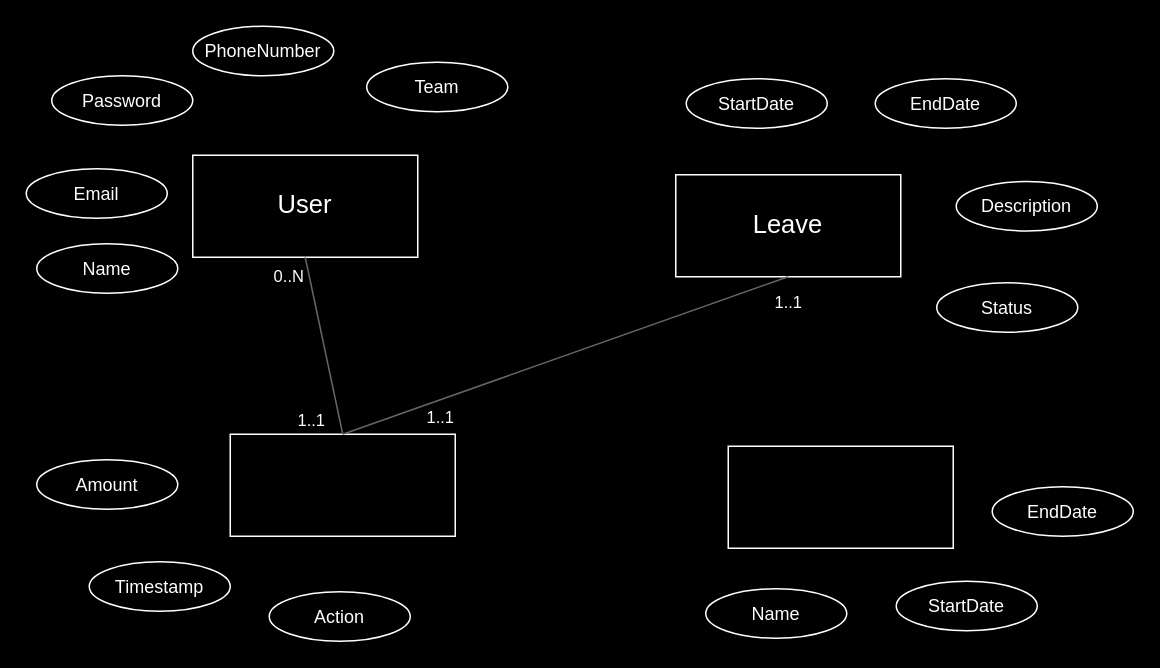
The diagram is 1160 pixels wide and 668 high, and some of its shapes have lost their labels. The centre of each missing label's shape, as x and y in pixels:
DaysTally: (x=342, y=484)
PublicHoliday: (x=840, y=496)
